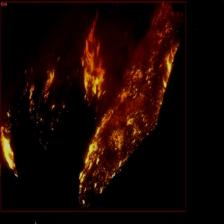fire: (0, 1, 186, 212)
